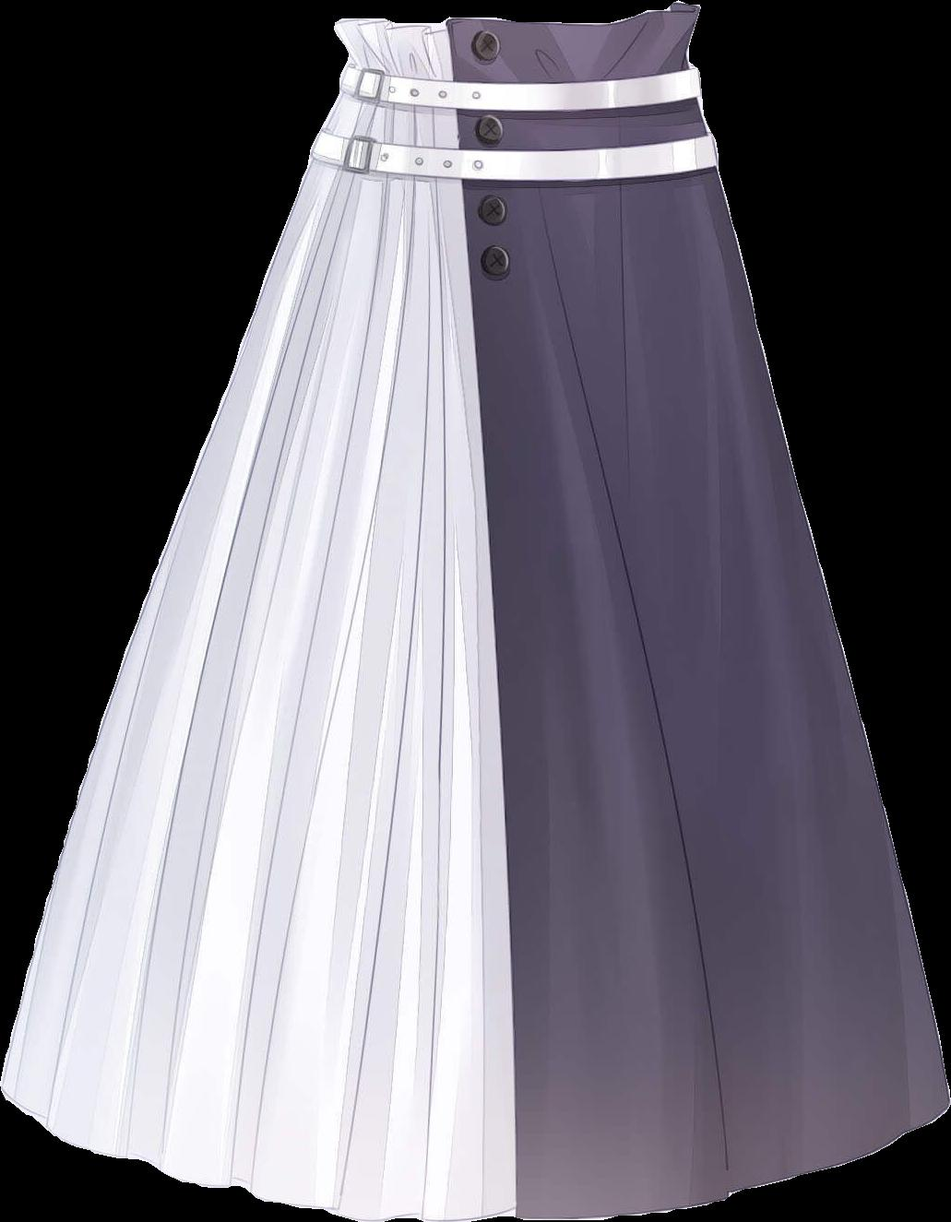Hemline: (0, 1076, 950, 1221)
Waistline: (327, 2, 697, 46)
